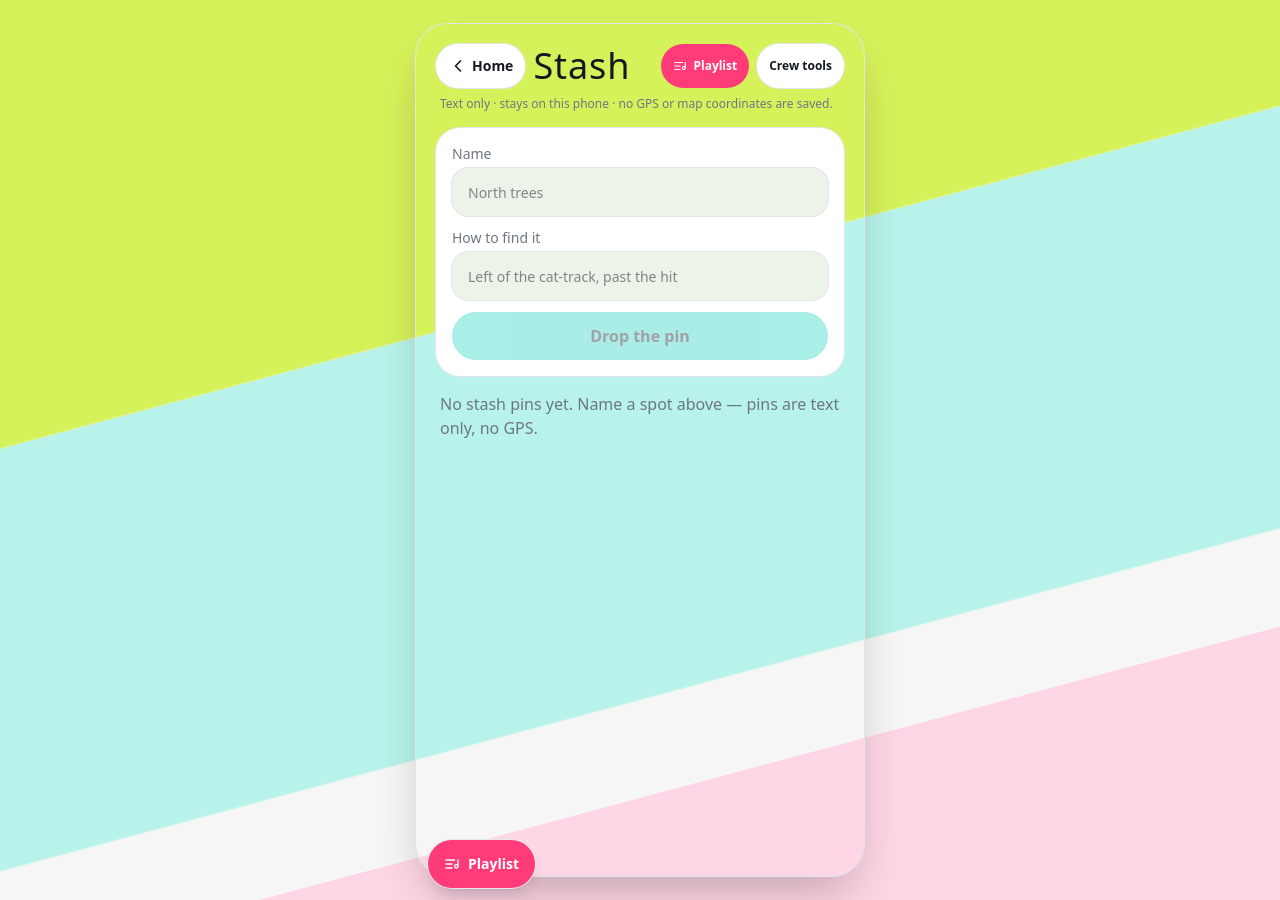
Test: Stash screen › error clears on edit
Type "lat: 4" into the field named "Stash name" at [640, 192], box left=452, top=168, right=828, bottom=216
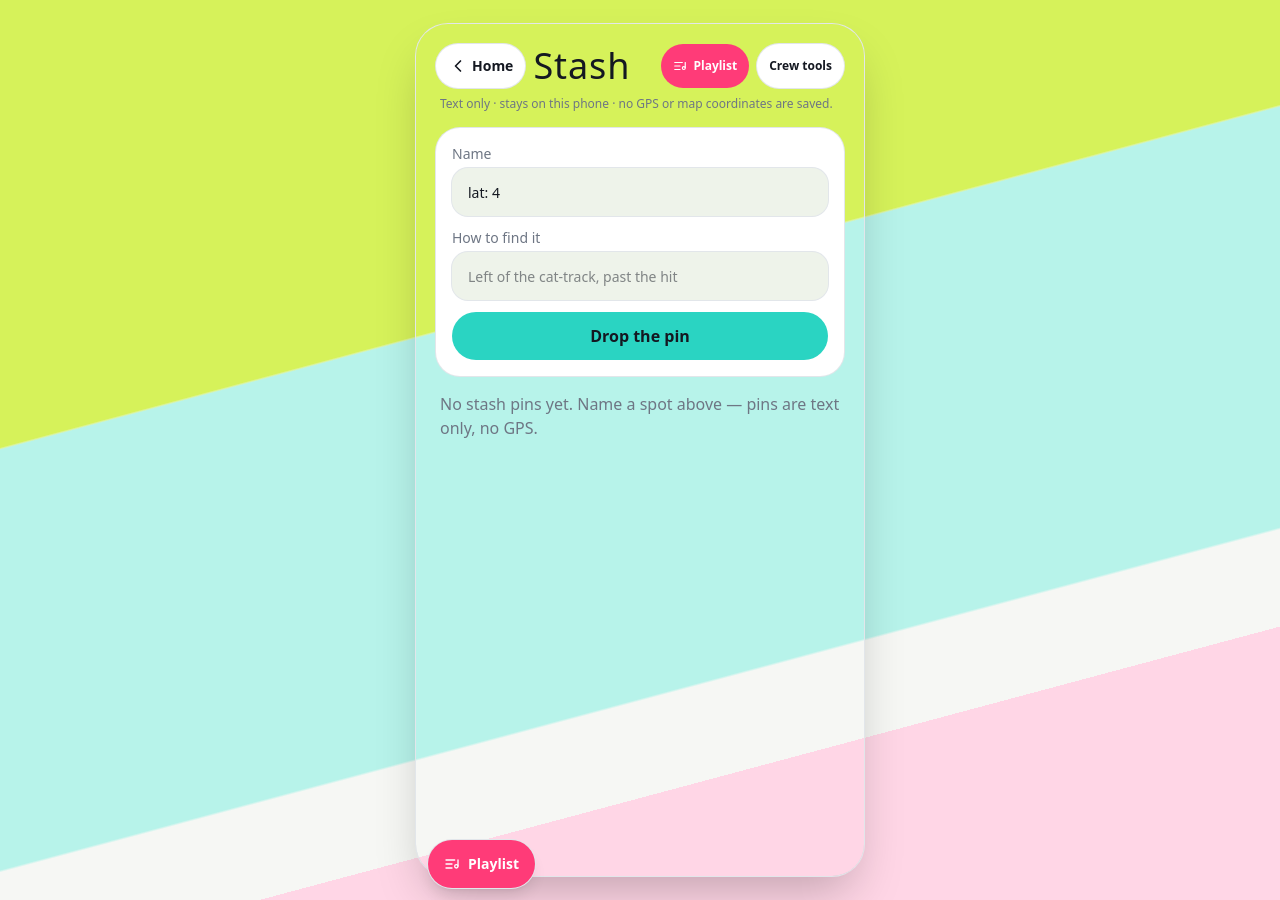
Click the button "Drop the pin" at [640, 336], box left=452, top=312, right=828, bottom=360
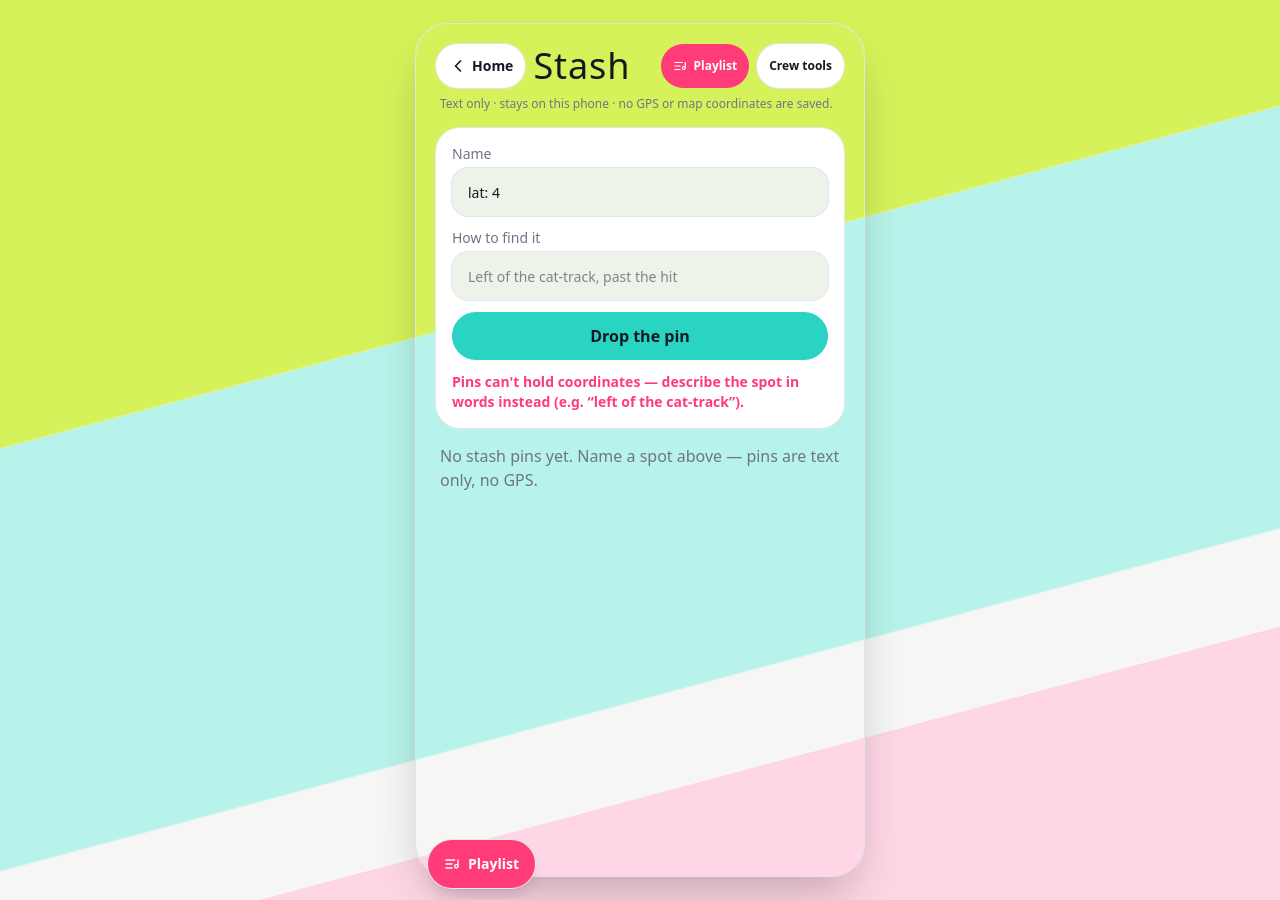
Replace the text in the field named "Stash name" with "Trees" at [640, 192], box left=452, top=168, right=828, bottom=216
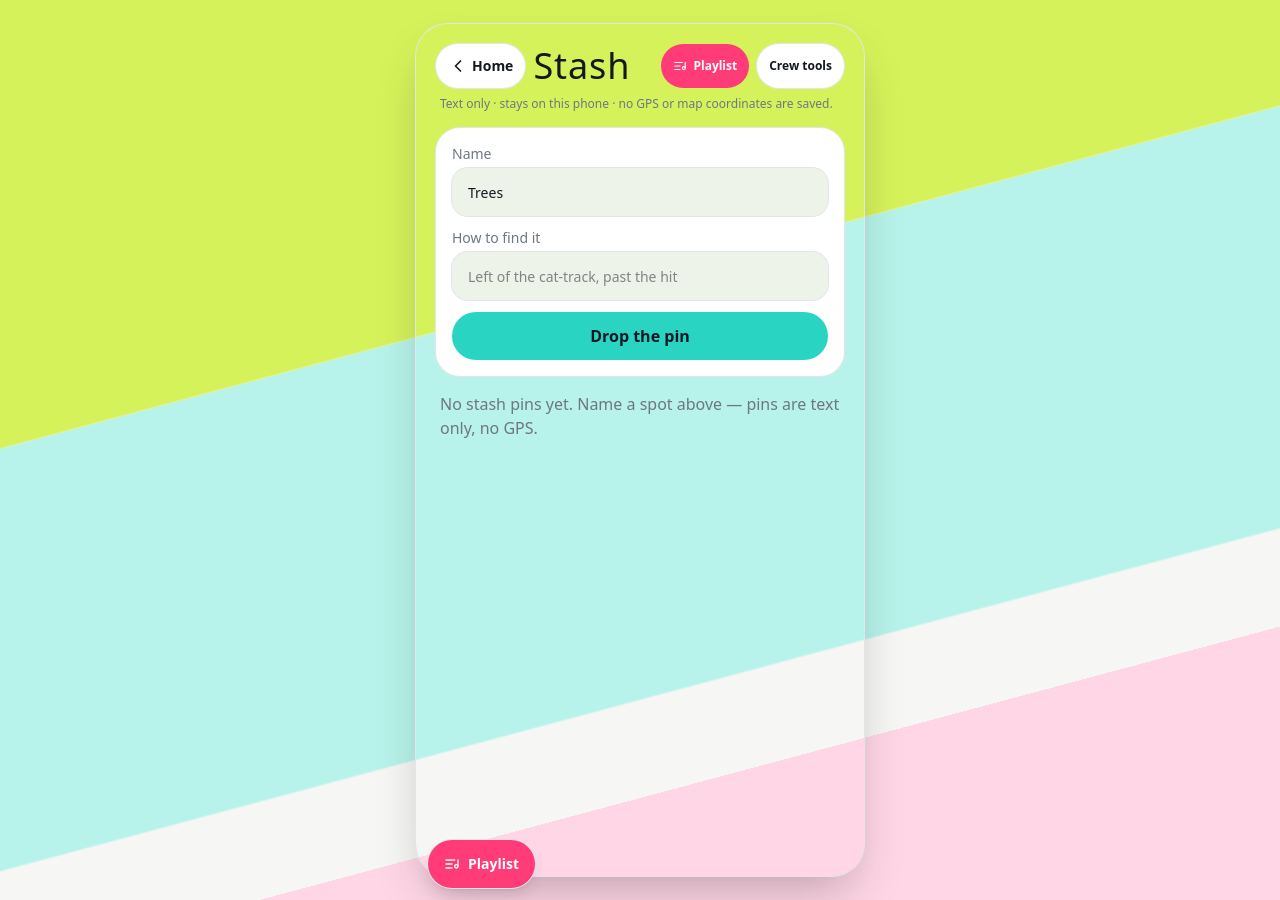
Now the message with test id "stash-error" is gone
